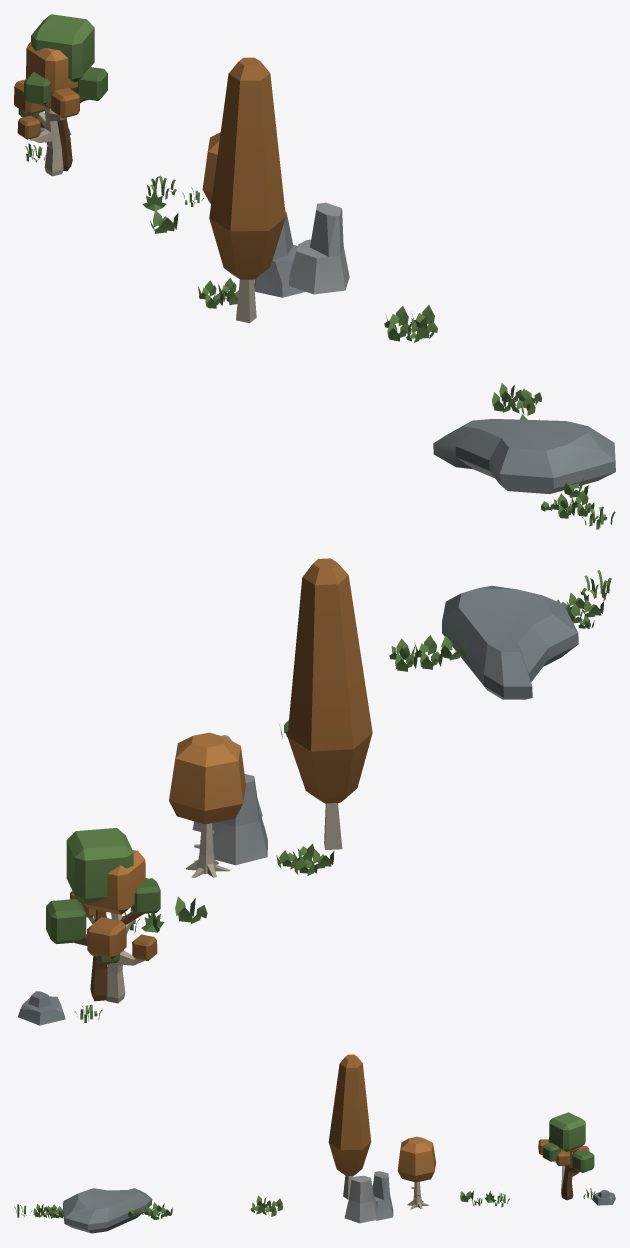
Rendered from cell_x3_z-1_render.gltf.
The picture shows the model from 3 angles, top to bottom: view 1: azimuth 30°, elevation 25°; view 2: azimuth 150°, elevation 25°; view 3: azimuth 270°, elevation 25°; orthographic projection. The views are drawn at different scales.
Parts seen in each view (by area): view 1: cell_x3_z-1; view 2: cell_x3_z-1; view 3: cell_x3_z-1.
Boxes of the visible parts, x1=… form: cell_x3_z-1: x1=14, y1=14, x2=615, y2=529; cell_x3_z-1: x1=18, y1=558, x2=611, y2=1025; cell_x3_z-1: x1=14, y1=1054, x2=615, y2=1233.
Bounding box in the file's own units: 6.18 × 9.53 × 34.9.
